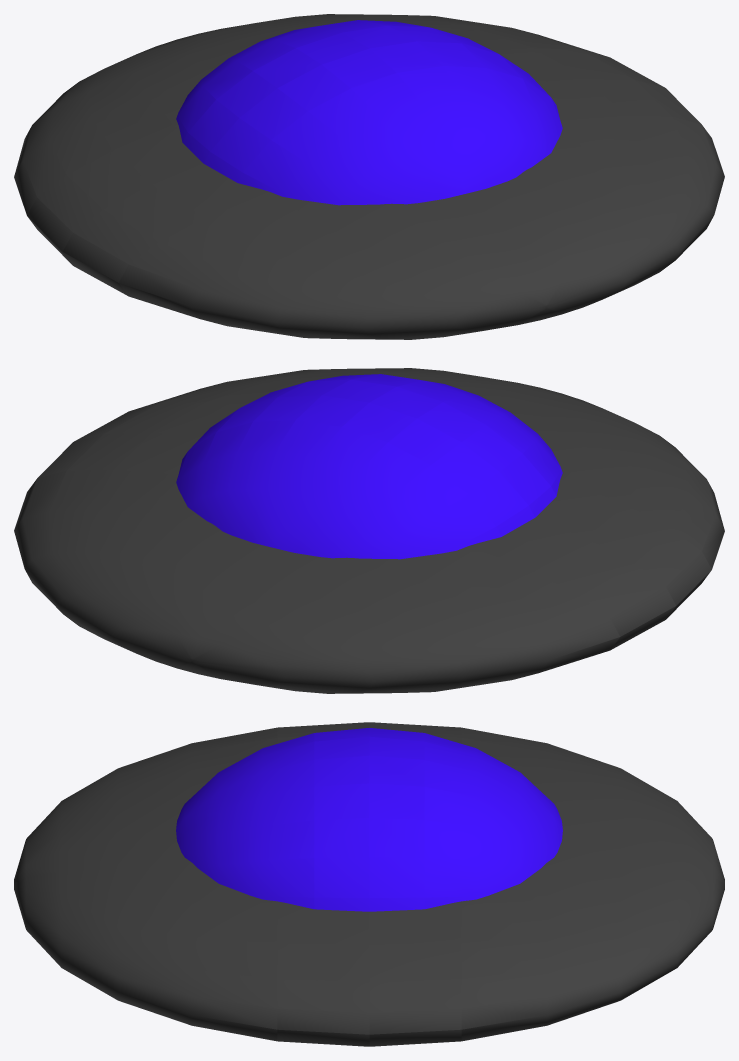
Rendered from enemy.fbx.
3 renders of one model, top to bottom at view 1: azimuth 30°, elevation 25°; view 2: azimuth 150°, elevation 25°; view 3: azimuth 270°, elevation 25°, orthographic.
Visible parts, largest first — view 1: sphere_full_1, sphere_full_0; view 2: sphere_full_1, sphere_full_0; view 3: sphere_full_1, sphere_full_0.
Boxes of the visible parts, x1,y1,x2,y2 form: sphere_full_1: (14, 14, 724, 339); sphere_full_0: (176, 20, 562, 205); sphere_full_1: (14, 368, 724, 693); sphere_full_0: (176, 374, 562, 559); sphere_full_1: (14, 722, 724, 1046); sphere_full_0: (176, 728, 562, 911).
Size of the model in its own units: 10 by 4 by 10.
